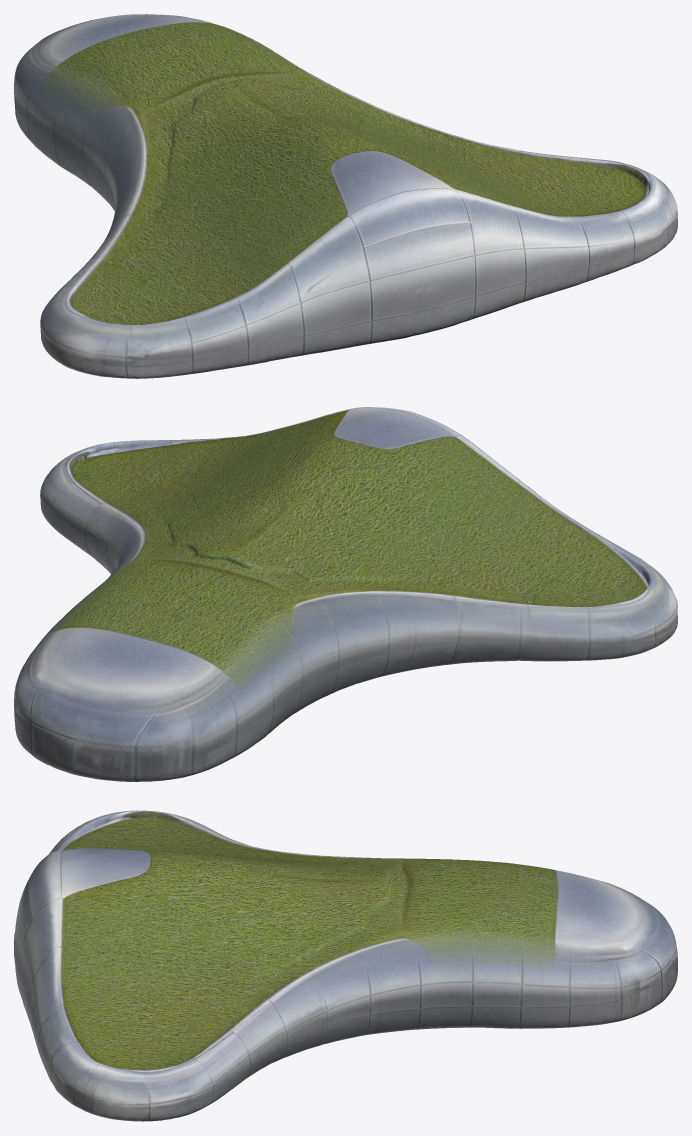
File: DDP_원경.glb
3 views of the same model, one above another, from view 1: azimuth 30°, elevation 25°; view 2: azimuth 150°, elevation 25°; view 3: azimuth 270°, elevation 25° (orthographic). The views are drawn at different scales.
Visible parts, largest first — view 1: texture_mapping; view 2: texture_mapping; view 3: texture_mapping.
Part boxes in pixels (x1,y1,x2,y2): texture_mapping: [14, 14, 677, 378]; texture_mapping: [14, 407, 677, 781]; texture_mapping: [14, 810, 677, 1121].
Size of the model in its own units: 1 by 0.211 by 0.9997.
1 material, 1 textured.
